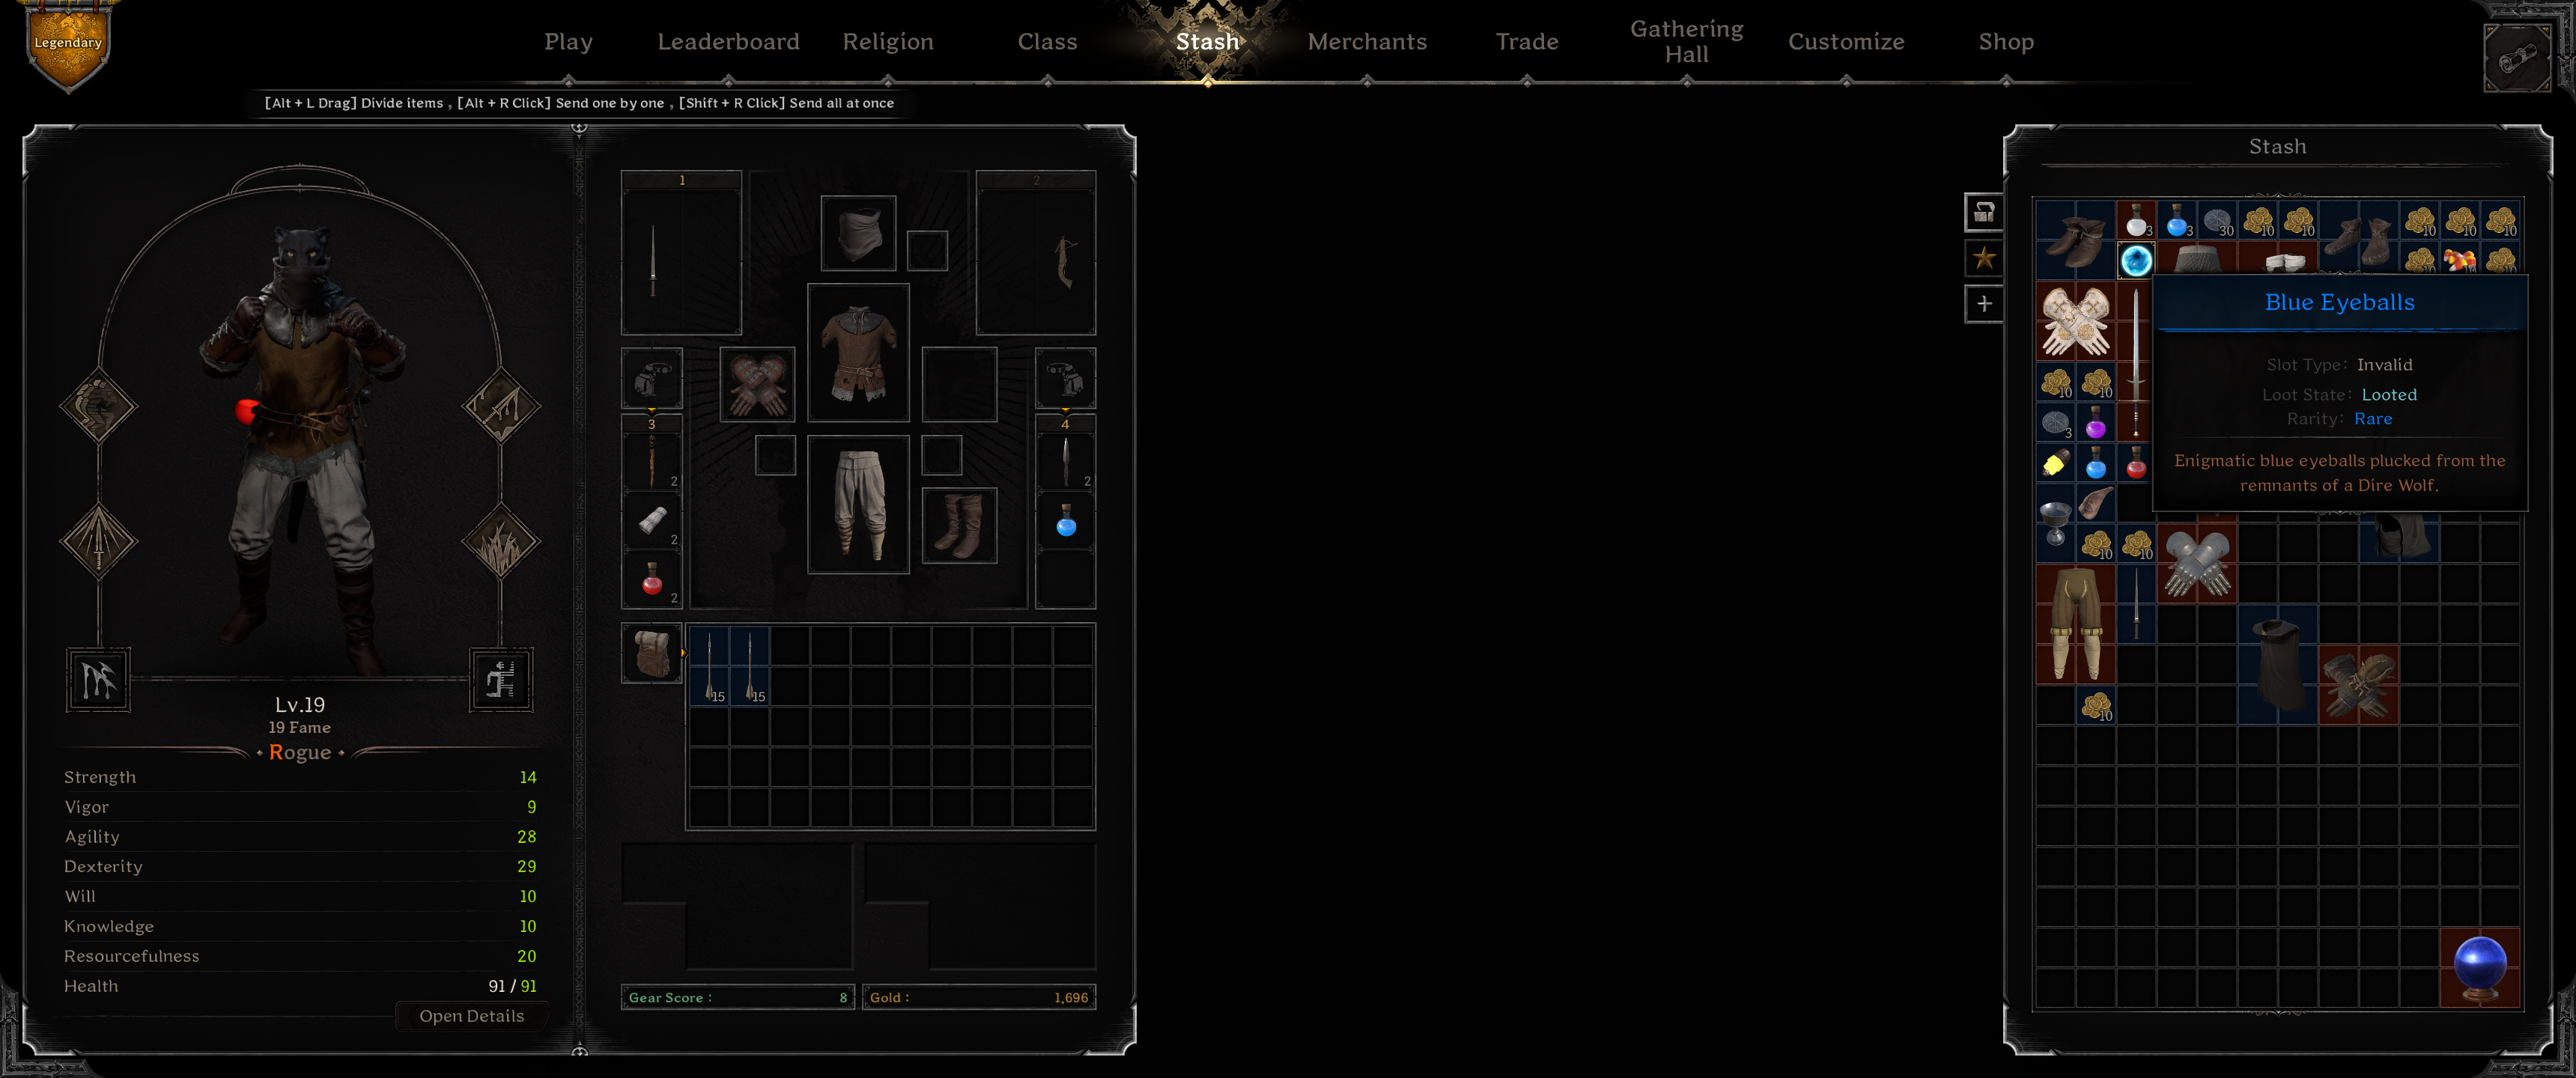Tooltip: (2152, 273, 2530, 513)
